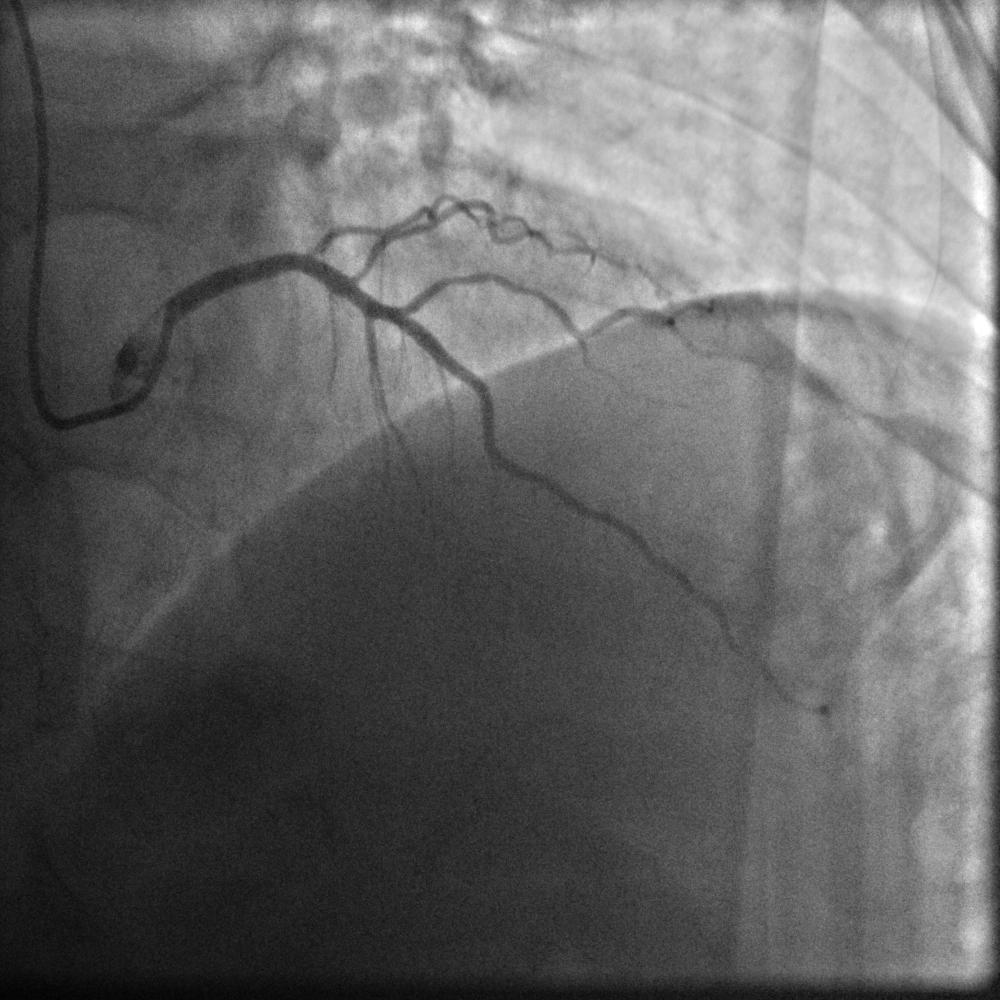Stenosis: (302, 232, 376, 290)
